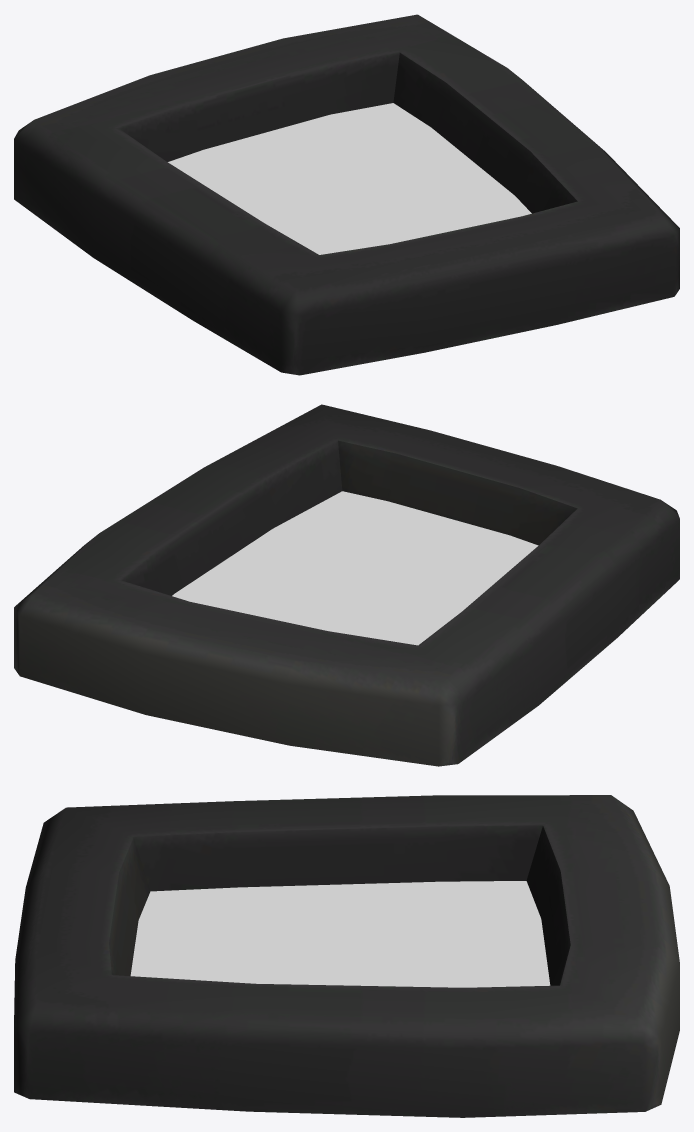
The model's file is PhotoFrameA.fbx.
3 views of the same model, one above another, from view 1: azimuth 30°, elevation 25°; view 2: azimuth 150°, elevation 25°; view 3: azimuth 270°, elevation 25° (orthographic). The views are drawn at different scales.
Parts seen in each view (by area): view 1: PhotoFrameANotLitUp, PhotoFrameALitUp; view 2: PhotoFrameANotLitUp, PhotoFrameALitUp; view 3: PhotoFrameANotLitUp, PhotoFrameALitUp.
Part boxes in pixels (x1,y1,x2,y2): PhotoFrameANotLitUp: [14, 14, 679, 375]; PhotoFrameALitUp: [168, 103, 531, 254]; PhotoFrameANotLitUp: [14, 404, 679, 766]; PhotoFrameALitUp: [172, 491, 538, 645]; PhotoFrameANotLitUp: [14, 795, 679, 1117]; PhotoFrameALitUp: [130, 881, 550, 987].
Bounding box in the file's own units: 47.66 × 7.93 × 54.68.
